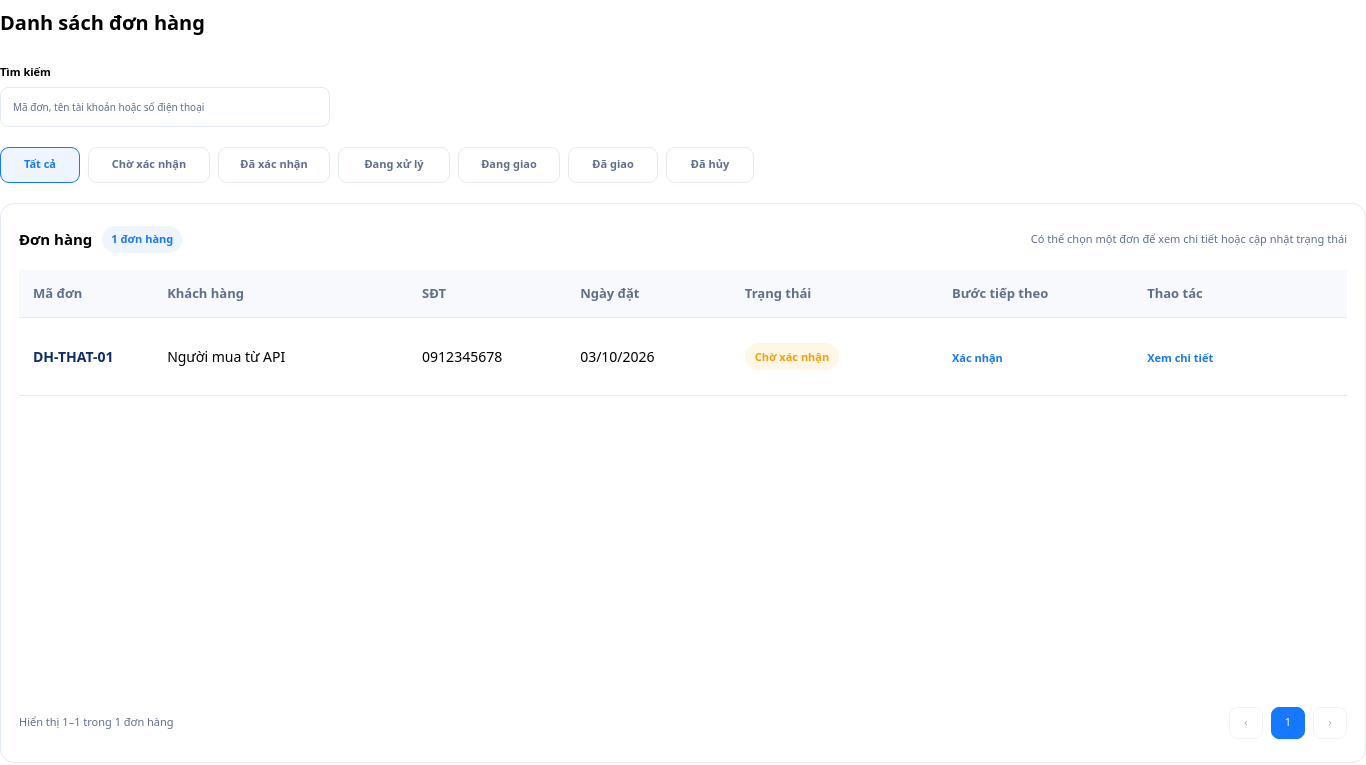
Test case: advancing Pending requires confirmation and sends only the next state
The width and height of the screenshot is (1366, 765).
Click the button with aria-label "Xác nhận DH-THAT-01" at x=977, y=357, box [952,350,1003,365]
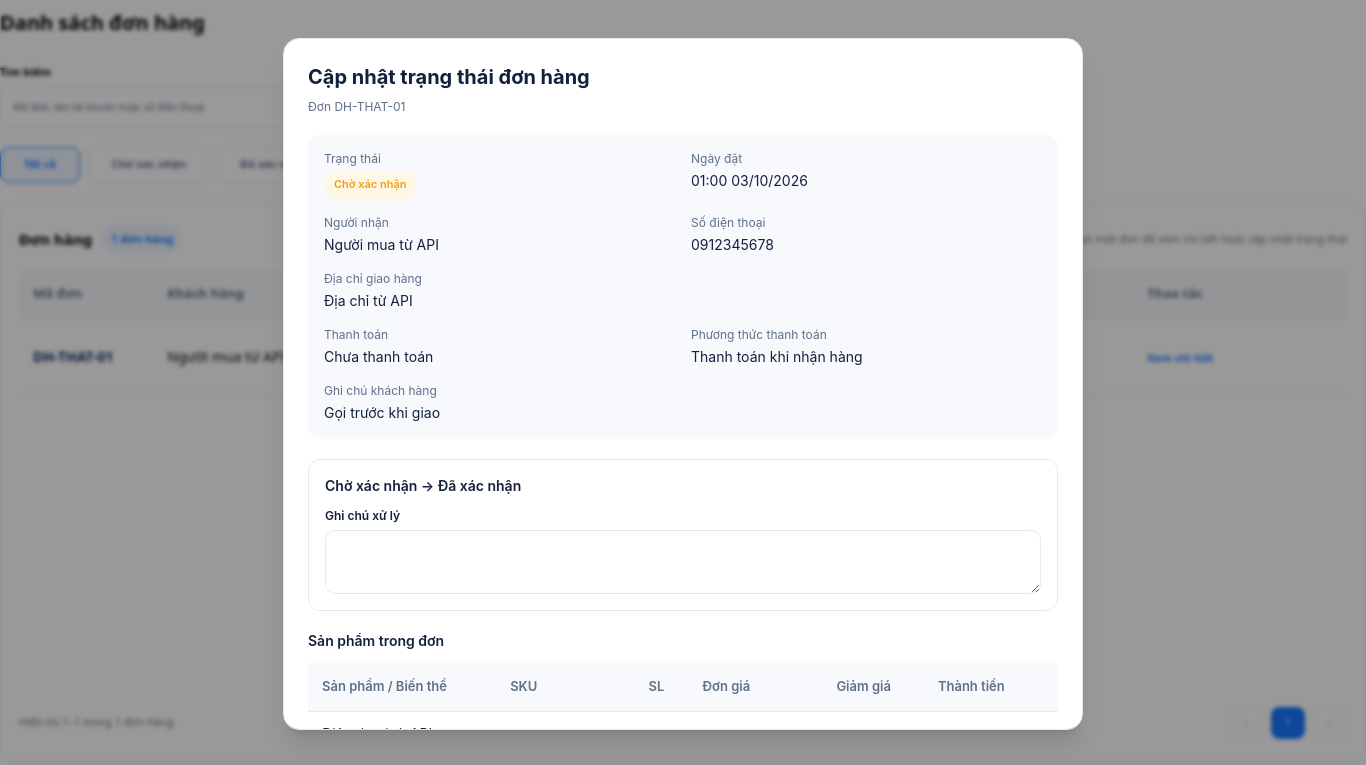
Now the text "Địa chỉ từ API" is shown, box [324,292,413,309]
Type "Đã kiểm tra" into the text box labelled "Ghi chú xử lý" at x=683, y=562, box [325,530,1041,594]
(page scrolled)
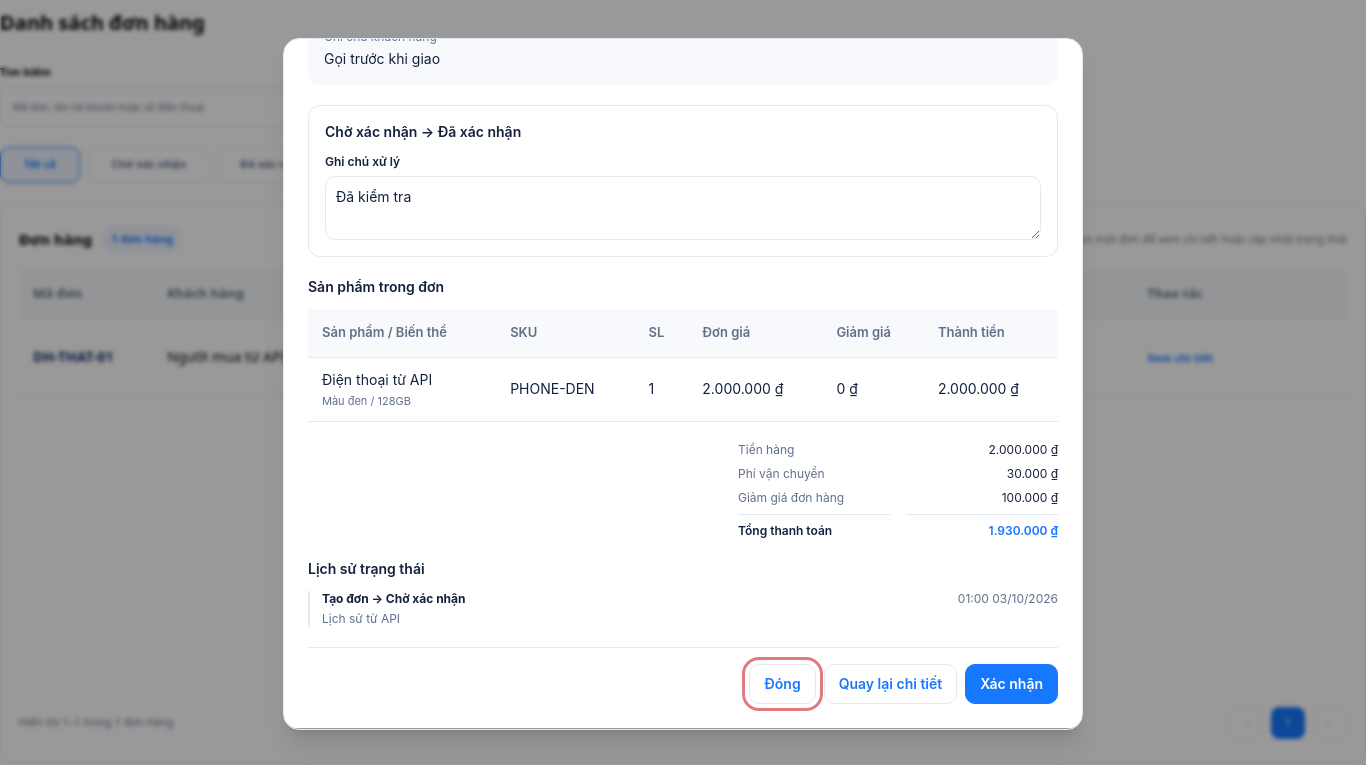
Click the button "Xác nhận" at x=1012, y=684, box [965,664,1058,704]
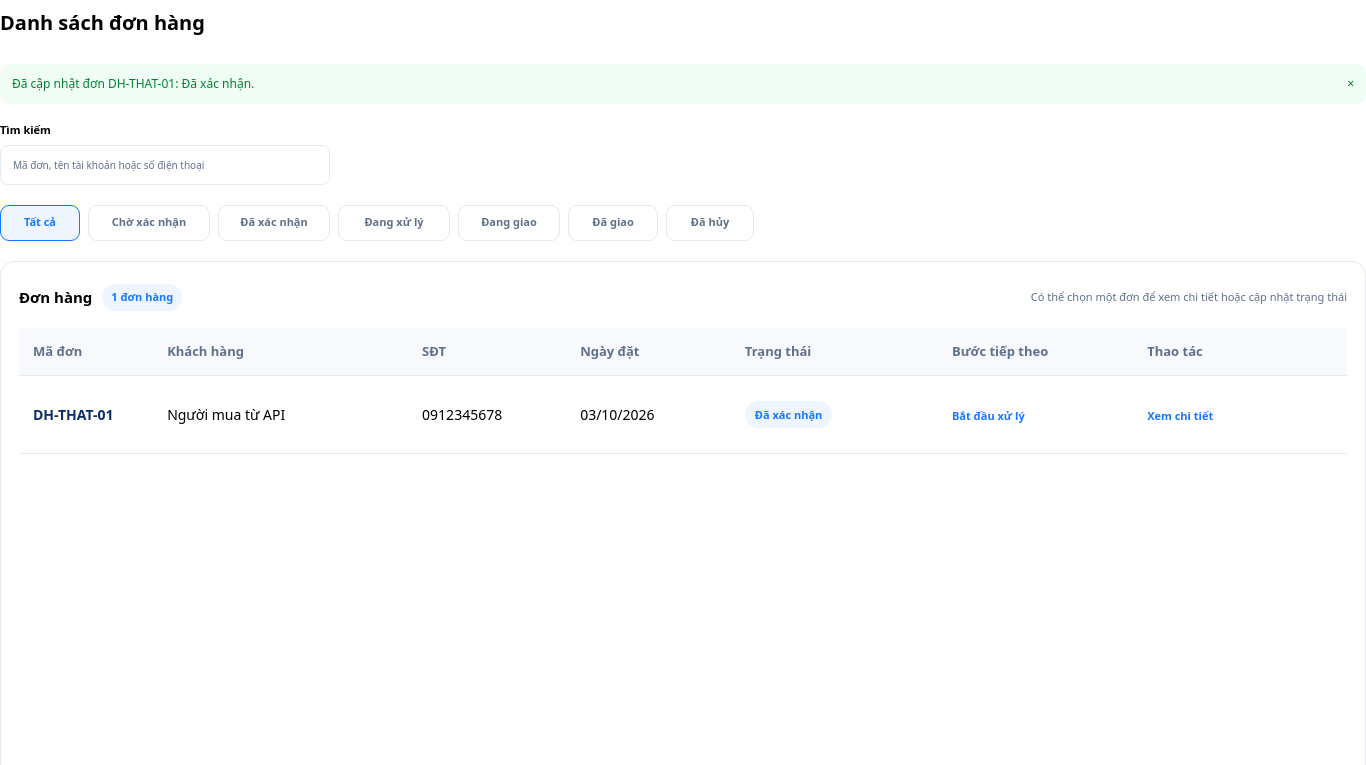
Now the dialog is gone
